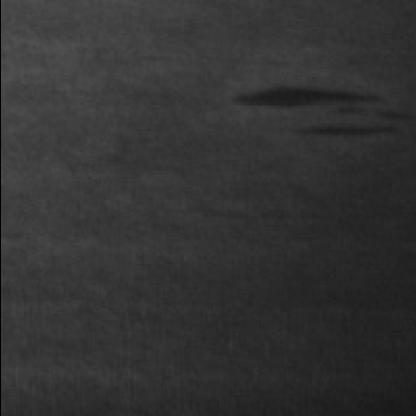inclusion: (229, 70, 416, 148)
